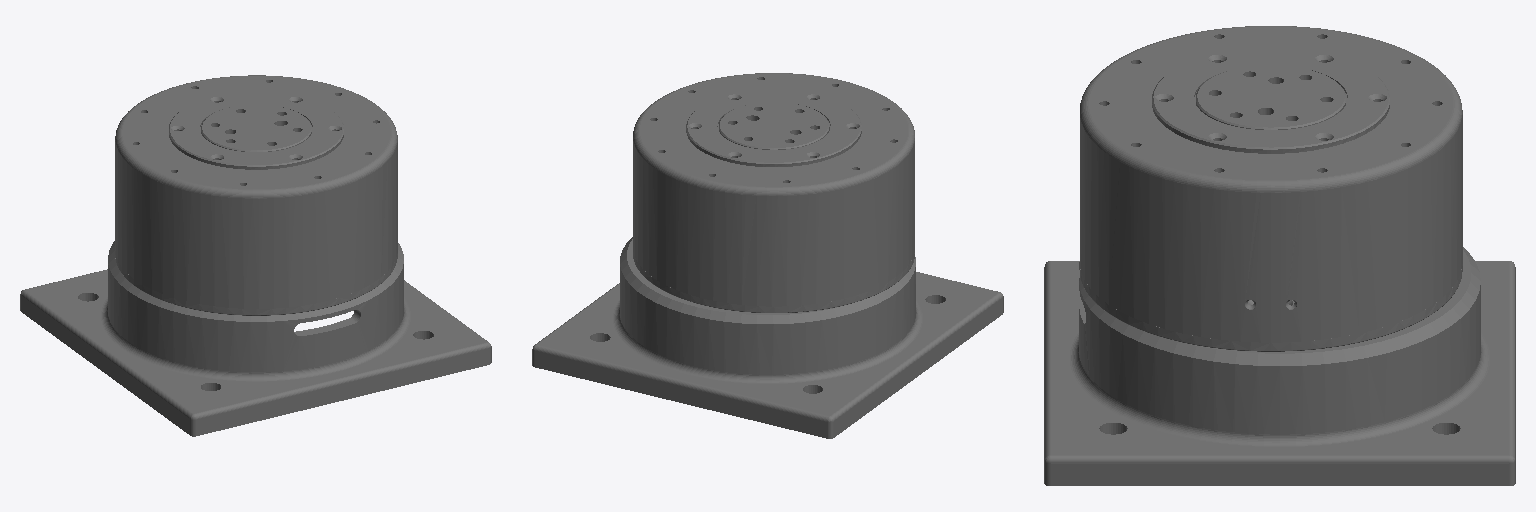
URDF robot description (tinybot):
<robot name="tinybot">
  <link name="base_link">
    <inertial>
      <origin xyz="0.0079258 5.3524E-05 0.12812" rpy="1.57079632679 0 0" />
      <mass value="13.418" />
      <inertia ixx="0.13734" ixy="3.8873E-05" ixz="0.0035268" iyy="0.14138" iyz="0.00022692" izz="0.11173" />
    </inertial>
    <visual>
      <origin xyz="0 0 0" rpy="1.57079632679 0 0" />
      <geometry>
        <mesh filename="module_sets/tinybot/meshes/base_link_X10.STL" scale="0.001 0.001 0.001" />
      </geometry>
      <material name="">
        <color rgba="0.5 0.5 0.5 1" />
      </material>
    </visual>
    <collision>
      <origin xyz="0 0 0" rpy="1.57079632679 0 0" />
      <geometry>
        <mesh filename="module_sets/tinybot/meshes/base_link_X10.STL" scale="0.001 0.001 0.001" />
      </geometry>
    </collision>
  </link>
  <joint name="base_motor_joint" type="continuous">
    <origin xyz="0.0425 -0.0425 0.04" rpy="0 0 0" />
    <axis xyz="0 0 1" />
    <parent link="base_link" />
    <child link="base_motor_link" />
  </joint>
  <link name="base_motor_link">
    <inertial>
      <origin xyz="0.0 0 0.0" rpy="3.1415926535 0 0" />
      <mass value="13.418" />
      <inertia ixx="0.13734" ixy="3.8873E-05" ixz="0.0035268" iyy="0.14138" iyz="0.00022692" izz="0.11173" />
    </inertial>
    <visual>
      <origin xyz="0 0 0" rpy="3.1415926535 0 0" />
      <geometry>
        <mesh filename="module_sets/tinybot/meshes/RMD-X10-S2-V3.STL" scale="0.001 0.001 0.001" />
      </geometry>
      <material name="">
        <color rgba="0.5 0.5 0.5 1" />
      </material>
    </visual>
    <collision>
      <origin xyz="0 0 0" rpy="1.57079632679 0 0" />
      <geometry>
        <mesh filename="module_sets/tinybot/meshes/RMD-X10-S2-V3.STL" scale="0.001 0.001 0.001" />
      </geometry>
    </collision>
  </link>
</robot>

--- What the picture shows (computed from the rendered views, not written in the file) ---
Views: 3 orthographic renders of the robot side by side, from view 1: azimuth 30°, elevation 25°; view 2: azimuth 150°, elevation 25°; view 3: azimuth 270°, elevation 25°.
Robot: tinybot — 2 links, 1 joints (1 continuous); root link base_link; default pose: every joint at zero.
Visible links, largest first — view 1: base_motor_link, base_link; view 2: base_motor_link, base_link; view 3: base_motor_link, base_link.
Link boxes in pixels (<box>): base_motor_link: <box>115,75,397,315</box>; base_link: <box>20,241,491,436</box>; base_motor_link: <box>633,73,914,312</box>; base_link: <box>532,237,1003,438</box>; base_motor_link: <box>1079,26,1462,351</box>; base_link: <box>1044,247,1515,485</box>.
Bounding box of the posed robot: 0.15 × 0.15 × 0.1014 m (x, y, z).
Meshes: 2 distinct files referenced, 2 mesh visuals loaded (2 binary STL).